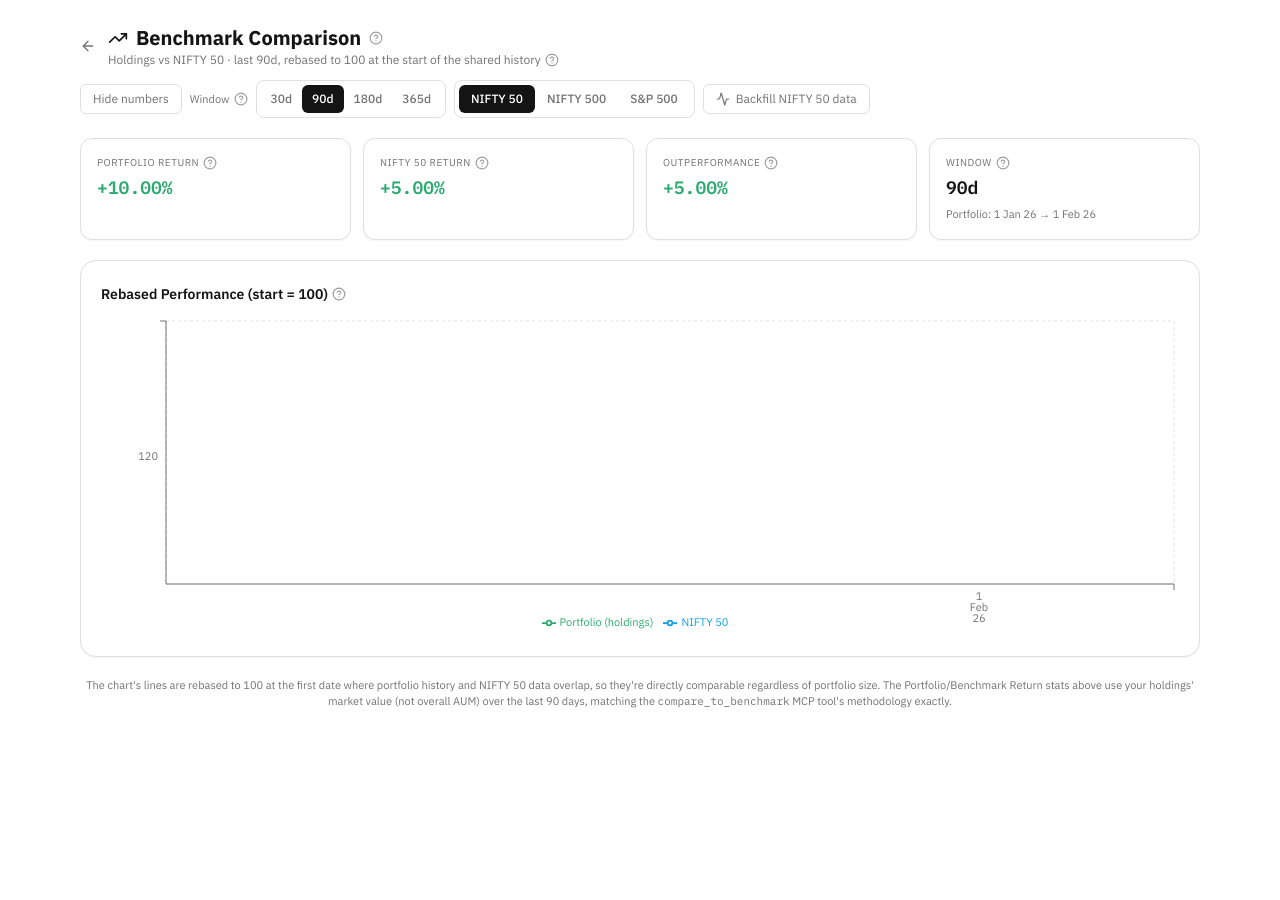
Test: Benchmark page › masks return figures when privacy mode is toggled on
The image size is (1280, 900).
expect the text "Portfolio Return" is shown: met, box [97,155,217,170]
Step 1. Click the button "Hide numbers" → (131, 99), box [80,84,182,114]
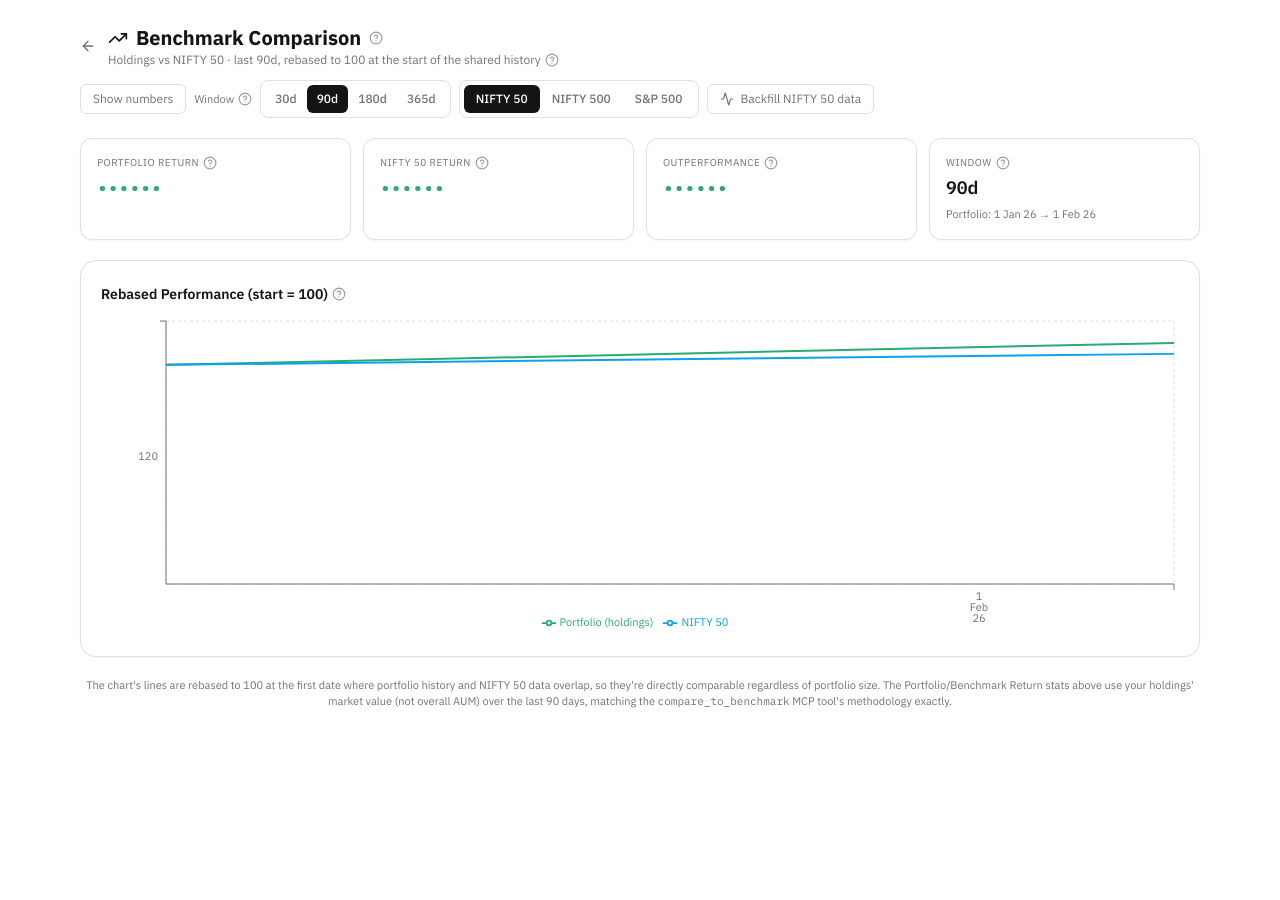
expect the text "••••••" below "Portfolio Return" is shown: met, box [97,176,162,199]
